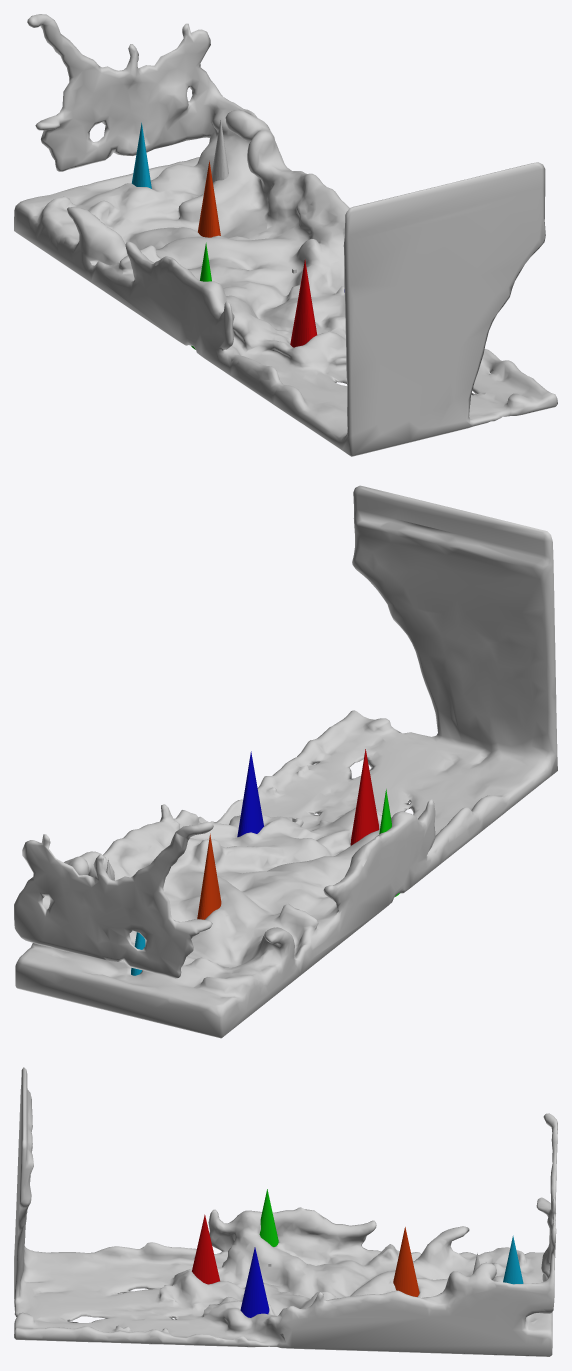
The picture shows the model from 3 angles, top to bottom: view 1: azimuth 30°, elevation 25°; view 2: azimuth 150°, elevation 25°; view 3: azimuth 270°, elevation 25°; orthographic projection. The views are drawn at different scales.
Visible parts, largest first — view 1: Liquid_Domain, 円錐.001, 円錐.004, 円錐.005, 円錐; view 2: Liquid_Domain, 円錐.001, 円錐.002, 円錐.004; view 3: Liquid_Domain, 円錐.002, 円錐.001, 円錐.004, 円錐.003, 円錐.005.
Part boxes in pixels (x1,y1,x2,y2): Liquid_Domain: (14,14,557,456); 円錐.001: (290,259,317,347); 円錐.004: (198,160,220,237); 円錐.005: (132,122,151,188); 円錐: (211,119,228,182); Liquid_Domain: (14,485,557,1038); 円錐.001: (350,749,379,845); 円錐.002: (237,751,263,837); 円錐.004: (197,833,221,919); Liquid_Domain: (14,1067,557,1356); 円錐.002: (240,1247,269,1317); 円錐.001: (192,1214,219,1284); 円錐.004: (393,1227,419,1296); 円錐.003: (259,1189,278,1246); 円錐.005: (503,1235,523,1284).
Bounding box in the file's own units: 129 × 158 × 365.
